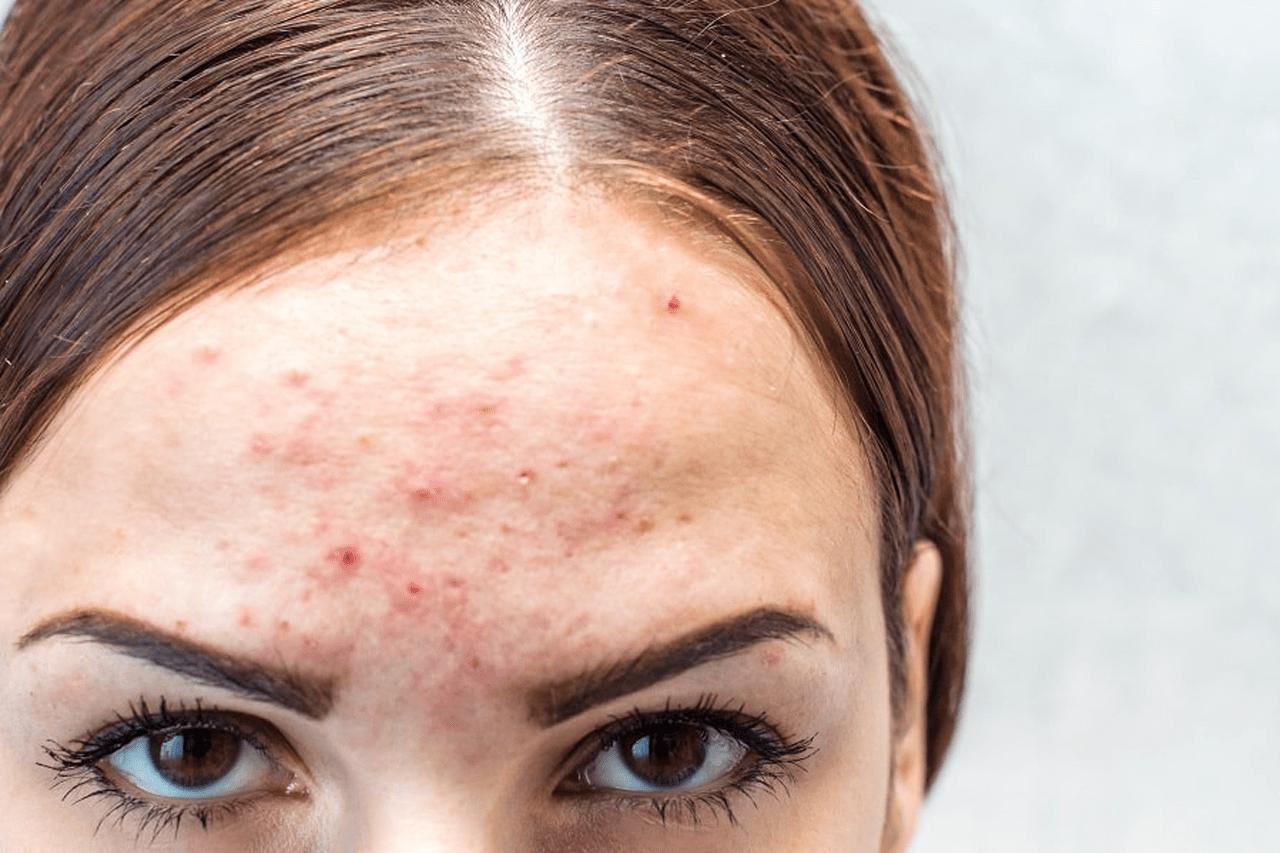Acne: (188, 330, 703, 667)
